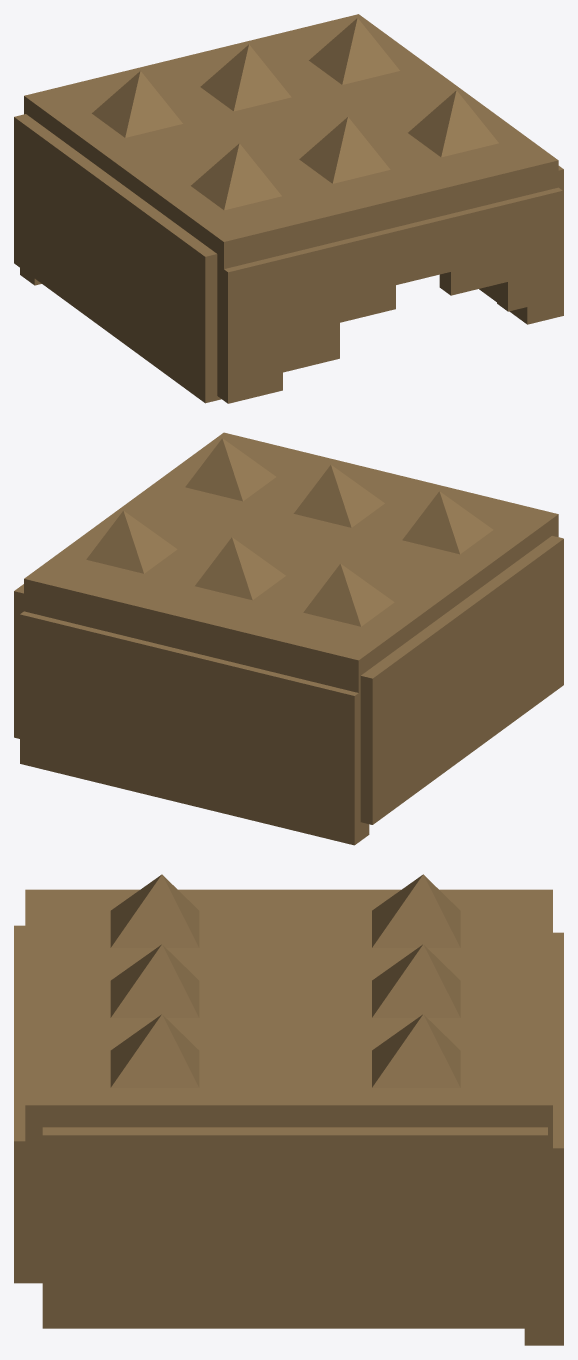
The model's file is hair_spiky.glb.
3 renders of one model, top to bottom at view 1: azimuth 30°, elevation 25°; view 2: azimuth 150°, elevation 25°; view 3: azimuth 270°, elevation 25°, orthographic. The views are drawn at different scales.
Parts seen in each view (by area): view 1: char_hair_visual; view 2: char_hair_visual; view 3: char_hair_visual.
Part boxes in pixels (<box>): char_hair_visual: <box>14,14,563,403</box>; char_hair_visual: <box>14,432,563,845</box>; char_hair_visual: <box>14,874,563,1345</box>.
Size of the model in its own units: 0.628 by 0.379 by 0.6315.
